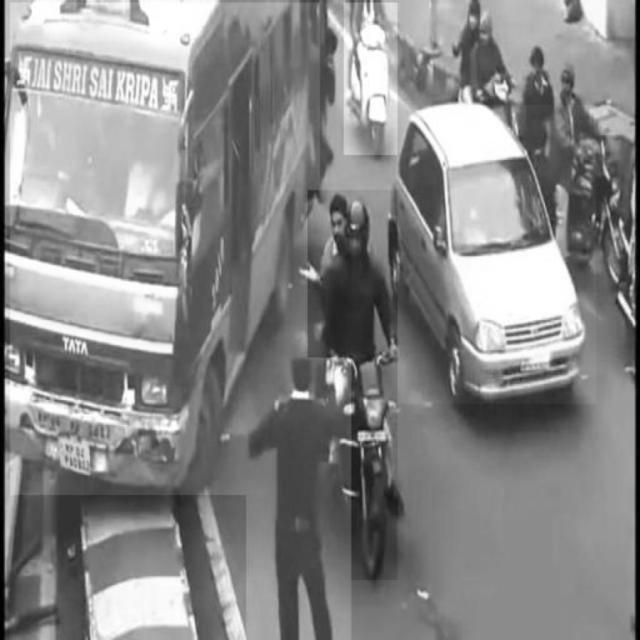person: (247, 357, 351, 639)
vehicle: (10, 3, 320, 495), (397, 105, 597, 403), (308, 189, 398, 580), (344, 2, 398, 156)
